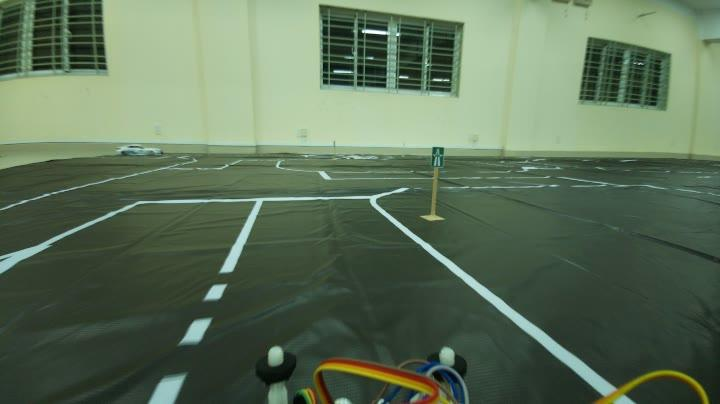highway_entry: (426, 143, 454, 180)
